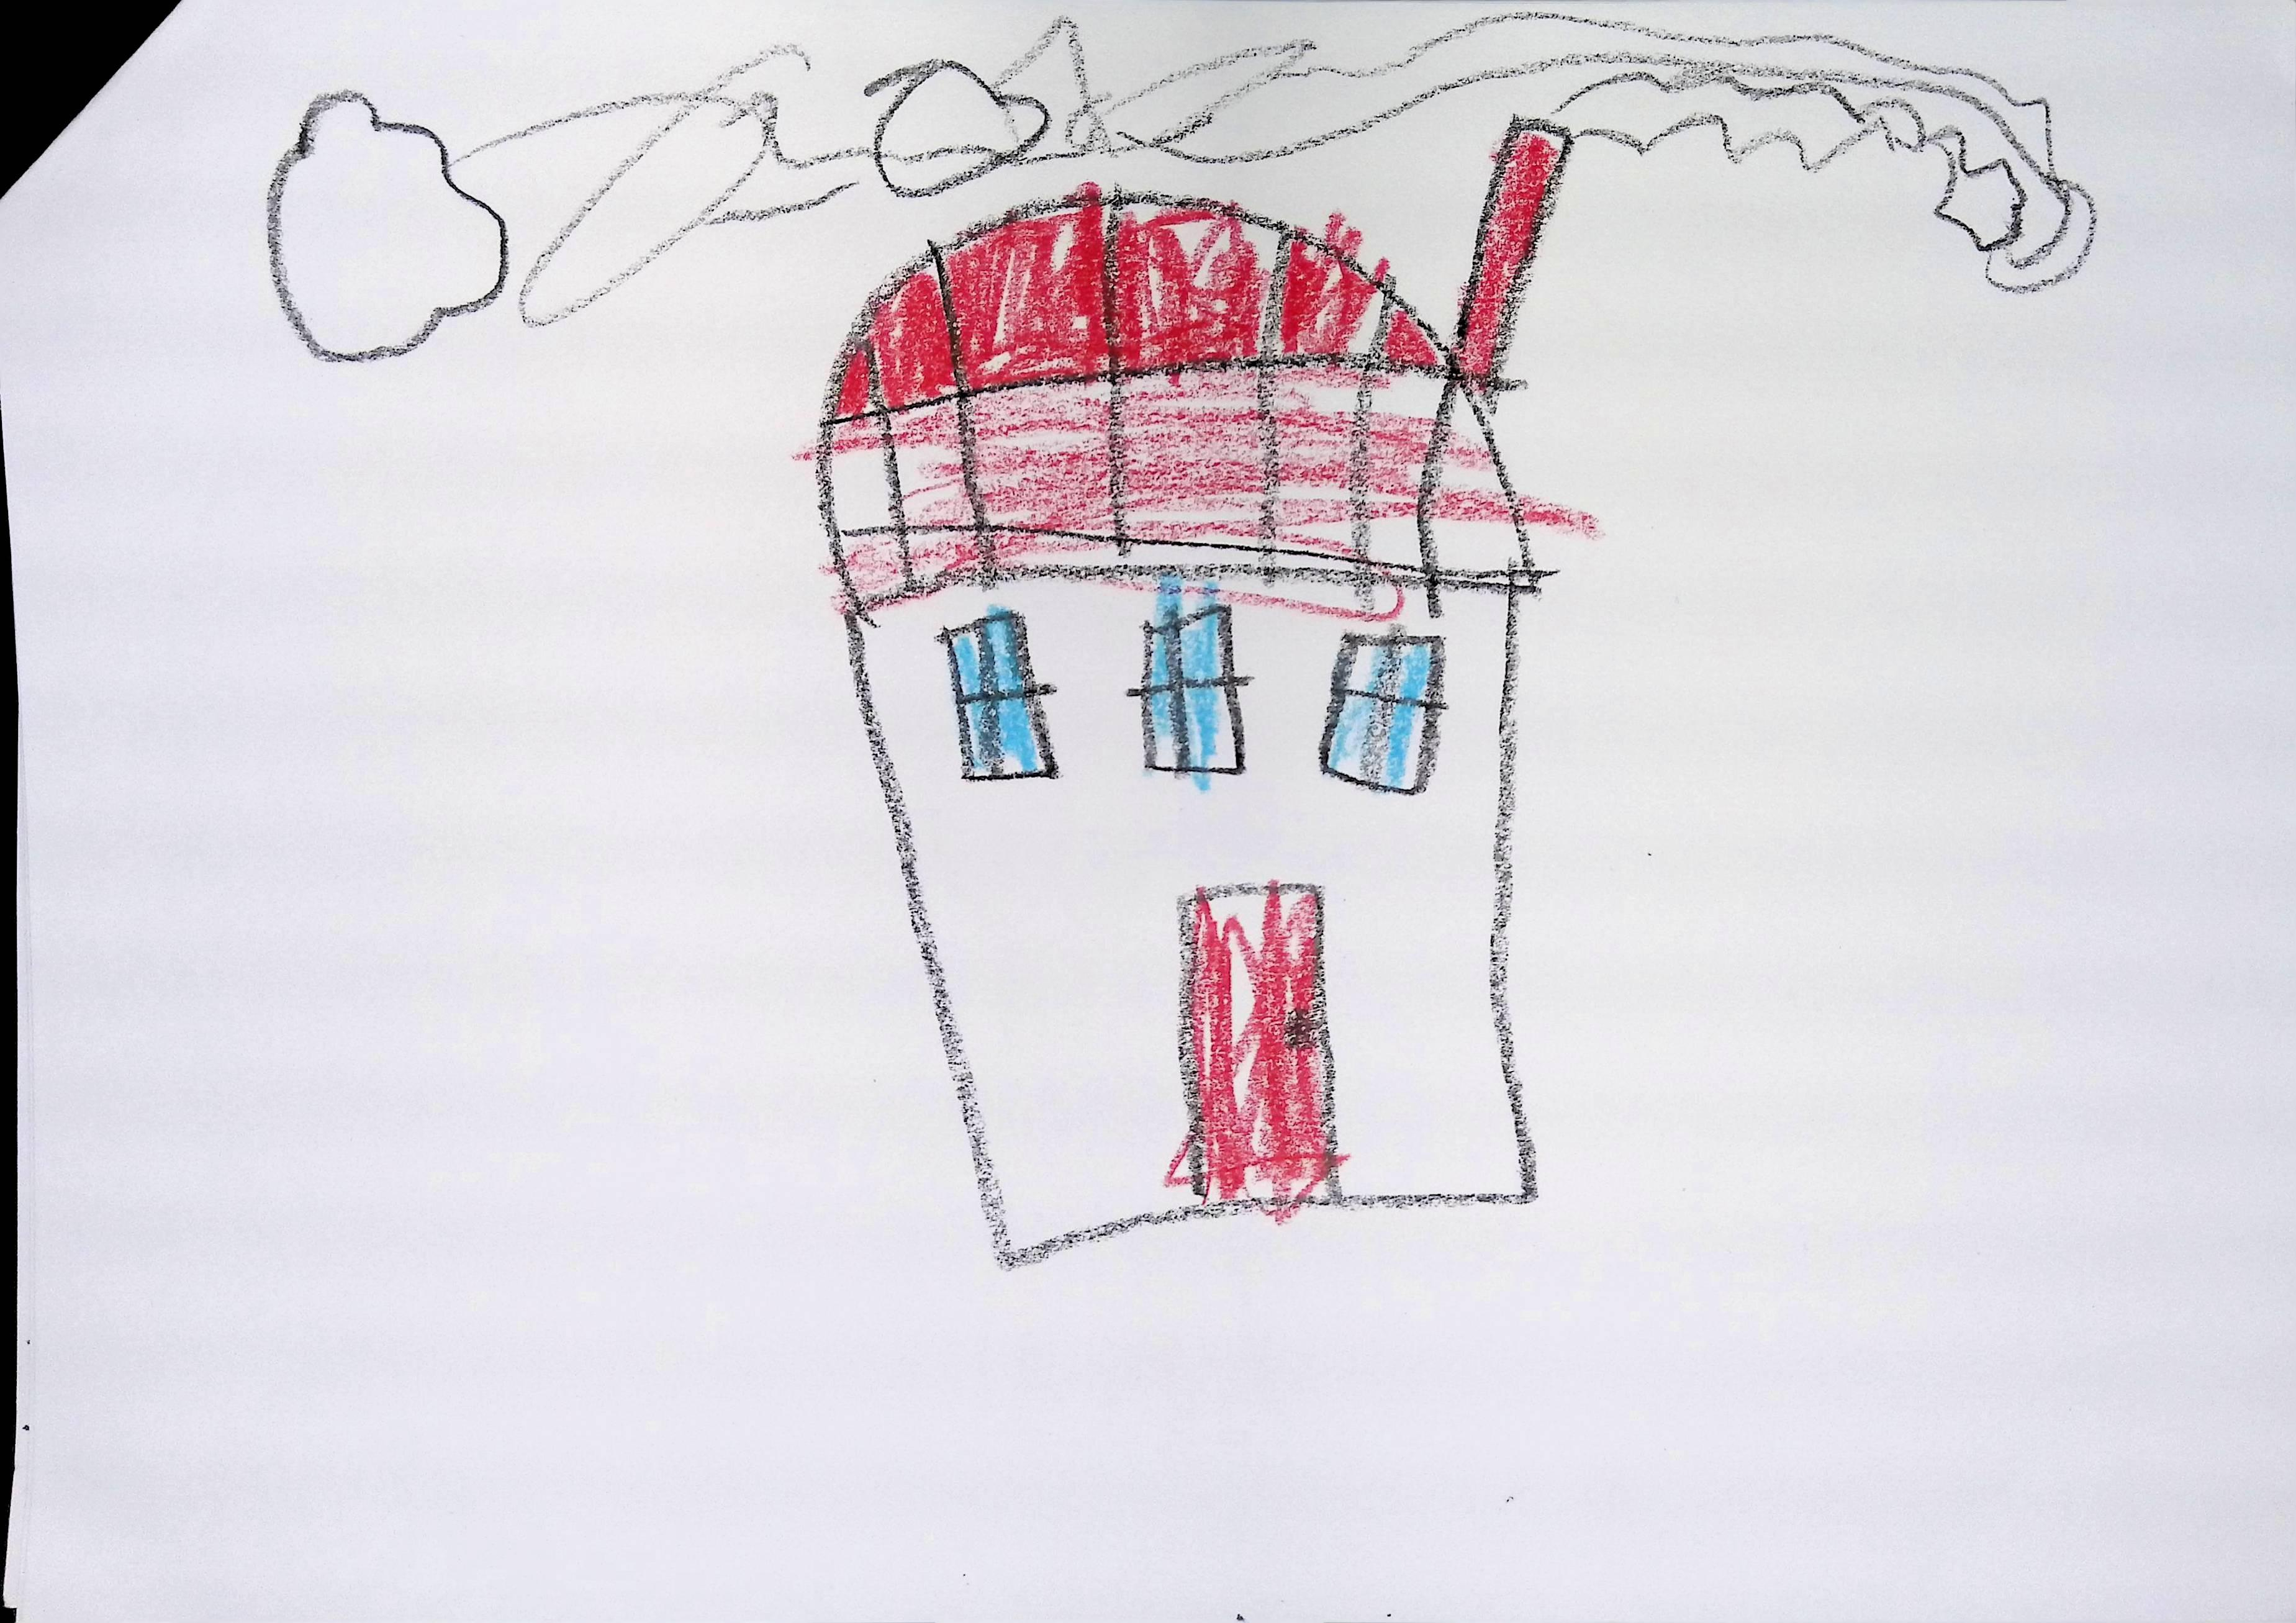chimney: (1455, 119, 1581, 420)
door: (1173, 875, 1349, 1223)
house: (813, 119, 1563, 1266)
roof: (817, 190, 1541, 629)
wall: (856, 576, 1544, 1273)
window: (1309, 629, 1448, 803), (940, 608, 1059, 776), (1140, 604, 1244, 778)
